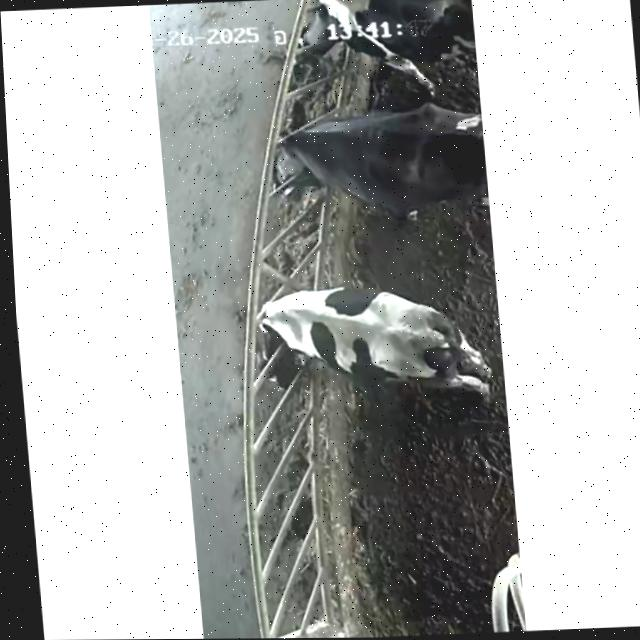eat: (207, 99, 377, 197), (239, 0, 425, 70), (205, 273, 348, 362)
